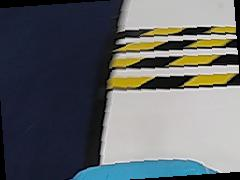bump: (111, 20, 235, 93)
